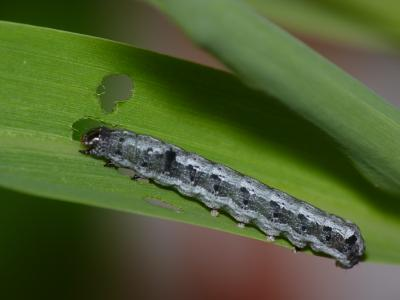Armyworm: (76, 114, 369, 275)
